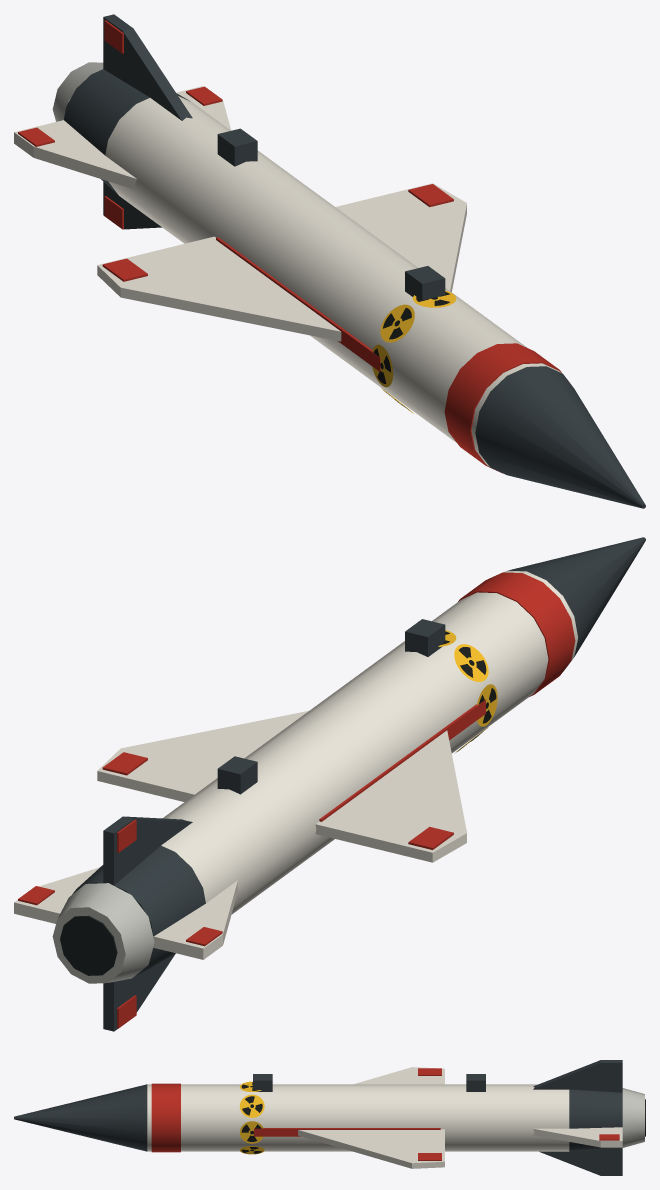
3 renders of one model, top to bottom at view 1: azimuth 30°, elevation 25°; view 2: azimuth 150°, elevation 25°; view 3: azimuth 270°, elevation 25°, orthographic. The views are drawn at different scales.
Parts seen in each view (by area): view 1: nuclear-missile-fleet-armor, nuclear-missile-fleet-machine, nuclear-missile-fleet-red, strategic-tail-fin-pair-1-painted, strategic-tail-fin-pair-0-painted, nuclear-missile-hazard-yellow, nuclear-missile-fleet-edge, nuclear-missile-hazard-black; view 2: nuclear-missile-fleet-armor, nuclear-missile-fleet-machine, nuclear-missile-fleet-red, strategic-tail-fin-pair-1-painted, nuclear-missile-fleet-edge, strategic-tail-fin-pair-0-painted, nuclear-missile-fleet-rubber, nuclear-missile-hazard-yellow; view 3: nuclear-missile-fleet-armor, nuclear-missile-fleet-machine, strategic-tail-fin-pair-1-painted, nuclear-missile-fleet-red, strategic-tail-fin-pair-0-painted, nuclear-missile-fleet-edge, nuclear-missile-hazard-yellow, nuclear-missile-hazard-black.
Part boxes in pixels (x1=…): nuclear-missile-fleet-armor: x1=97, y1=96, x2=562, y2=466; nuclear-missile-fleet-machine: x1=64, y1=69, x2=645, y2=508; nuclear-missile-fleet-red: x1=102, y1=184, x2=561, y2=473; strategic-tail-fin-pair-1-painted: x1=103, y1=14, x2=192, y2=229; strategic-tail-fin-pair-0-painted: x1=14, y1=86, x2=231, y2=190; nuclear-missile-hazard-yellow: x1=372, y1=290, x2=456, y2=413; nuclear-missile-fleet-edge: x1=52, y1=62, x2=103, y2=121; nuclear-missile-hazard-black: x1=373, y1=292, x2=449, y2=410; nuclear-missile-fleet-armor: x1=97, y1=570, x2=577, y2=914; nuclear-missile-fleet-machine: x1=72, y1=537, x2=645, y2=979; nuclear-missile-fleet-red: x1=102, y1=572, x2=575, y2=849; strategic-tail-fin-pair-1-painted: x1=103, y1=816, x2=192, y2=1031; nuclear-missile-fleet-edge: x1=52, y1=883, x2=154, y2=983; strategic-tail-fin-pair-0-painted: x1=14, y1=867, x2=237, y2=959; nuclear-missile-fleet-rubber: x1=60, y1=915, x2=117, y2=975; nuclear-missile-hazard-yellow: x1=438, y1=630, x2=497, y2=752; nuclear-missile-fleet-armor: x1=147, y1=1067, x2=569, y2=1168; nuclear-missile-fleet-machine: x1=14, y1=1074, x2=622, y2=1151; strategic-tail-fin-pair-1-painted: x1=533, y1=1060, x2=622, y2=1175; nuclear-missile-fleet-red: x1=151, y1=1068, x2=441, y2=1160; strategic-tail-fin-pair-0-painted: x1=533, y1=1127, x2=622, y2=1147; nuclear-missile-fleet-edge: x1=622, y1=1088, x2=644, y2=1147; nuclear-missile-hazard-yellow: x1=239, y1=1081, x2=264, y2=1154; nuclear-missile-hazard-black: x1=241, y1=1082, x2=262, y2=1153.
Bounding box in the file's own units: 41.68 × 22.8 × 116.
